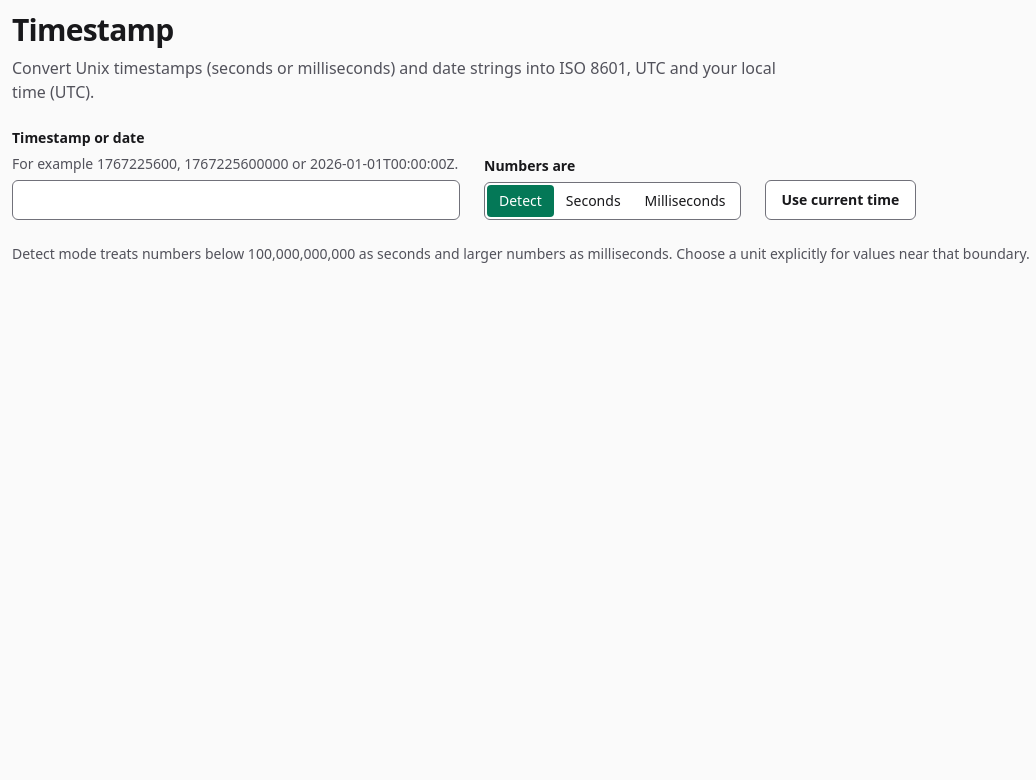
it: TimestampTool › converts a Unix timestamp
Type "1767225600" into the field labelled "Timestamp or date".
click(236, 200); type("1767225600")  # box [12, 180, 460, 220]
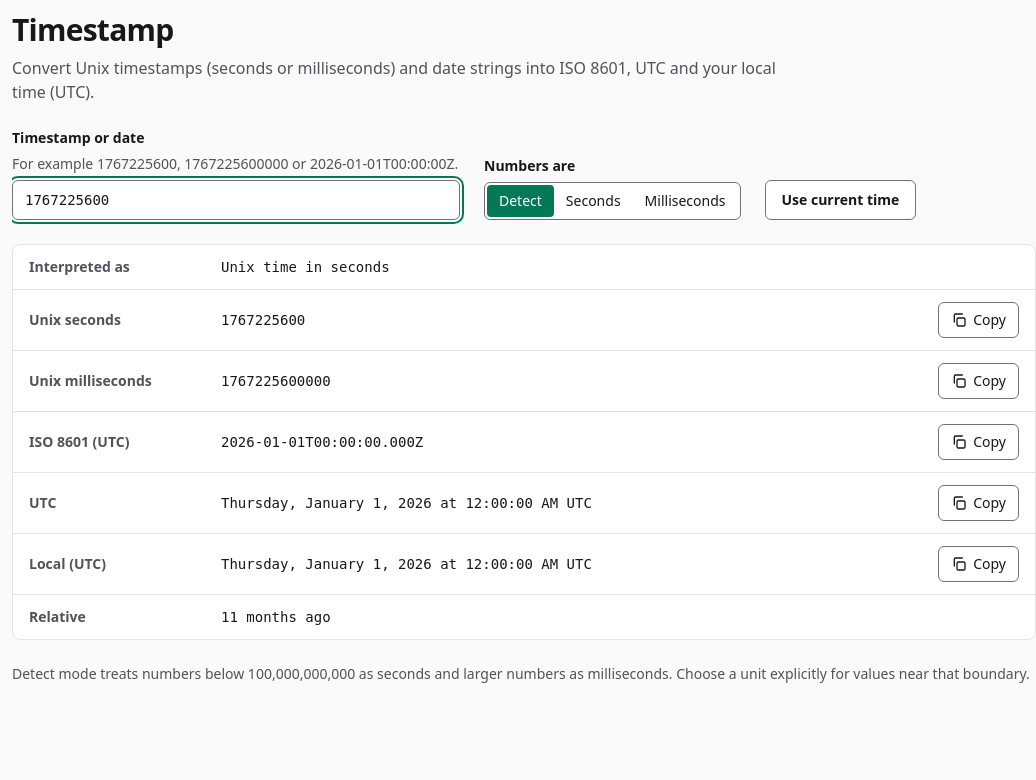
Result: the element named "Conversion results" shows "2026-01-01T00:00:00.000Z" at [221, 434, 423, 450]
Result: the element named "Conversion results" shows "Unix time in seconds" at [221, 259, 390, 275]
